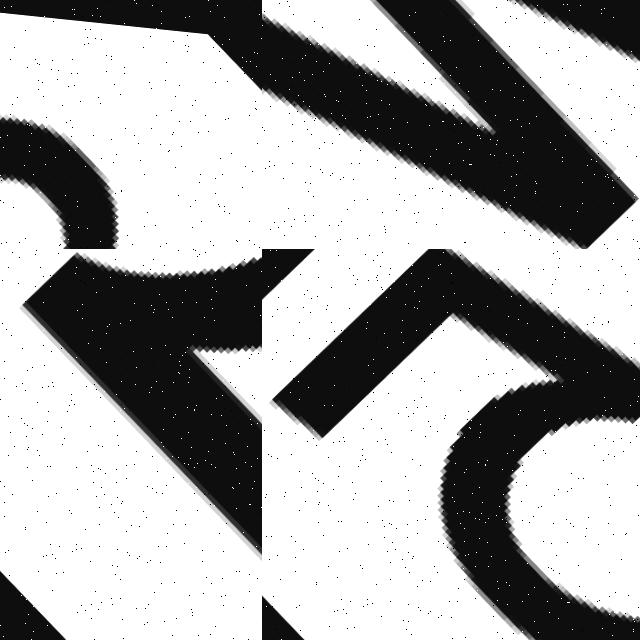1: (8, 249, 262, 640)
5: (262, 249, 640, 640)
8: (0, 19, 262, 249)
W: (262, 0, 640, 249)
